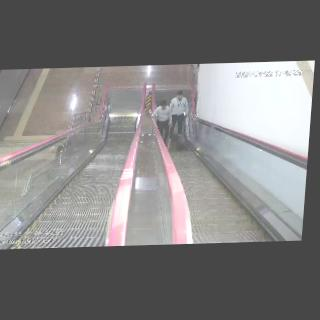anomaly: (166, 132, 194, 155)
normal: (168, 90, 191, 133), (152, 100, 171, 144)
